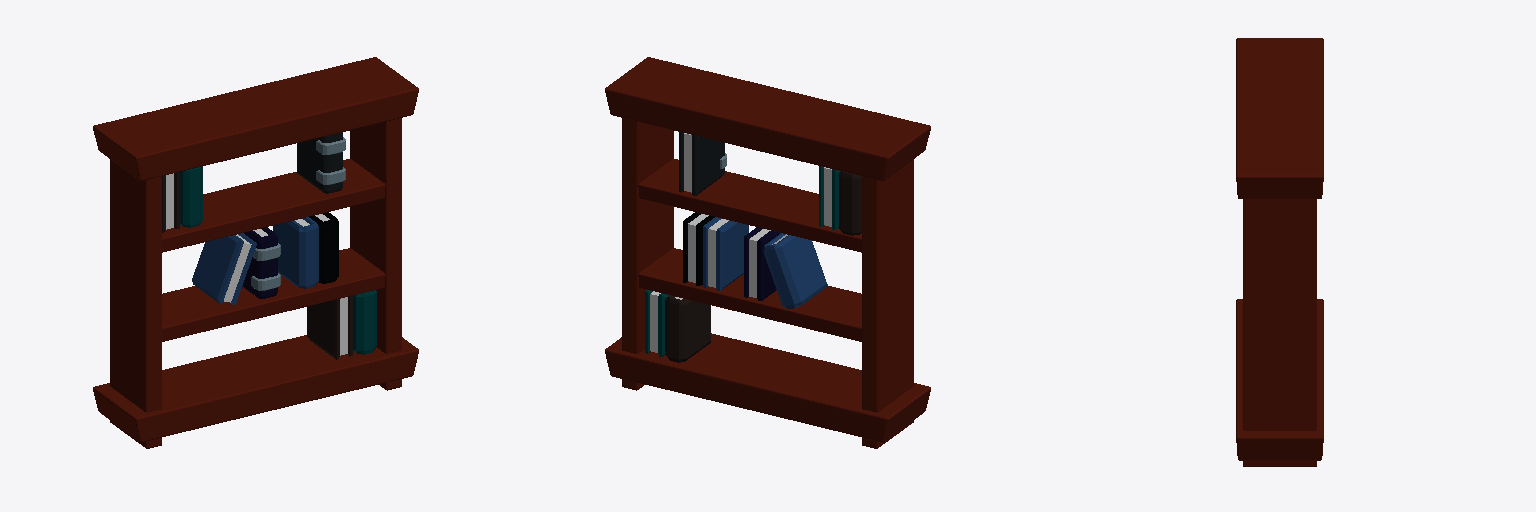
The model's file is bookcaseWideFilled.obj.
3 views of the same model, side by side, from view 1: azimuth 30°, elevation 25°; view 2: azimuth 150°, elevation 25°; view 3: azimuth 270°, elevation 25° (orthographic).
Parts seen in each view (by area): view 1: bookcaseWideFilled_Cube.4109; view 2: bookcaseWideFilled_Cube.4109; view 3: bookcaseWideFilled_Cube.4109.
Part boxes in pixels (bbox=[...]): bookcaseWideFilled_Cube.4109: bbox=[93, 57, 418, 448]; bookcaseWideFilled_Cube.4109: bbox=[605, 57, 930, 448]; bookcaseWideFilled_Cube.4109: bbox=[1236, 38, 1323, 466].
Bounding box in the file's own units: 1.99 × 2 × 0.5333.